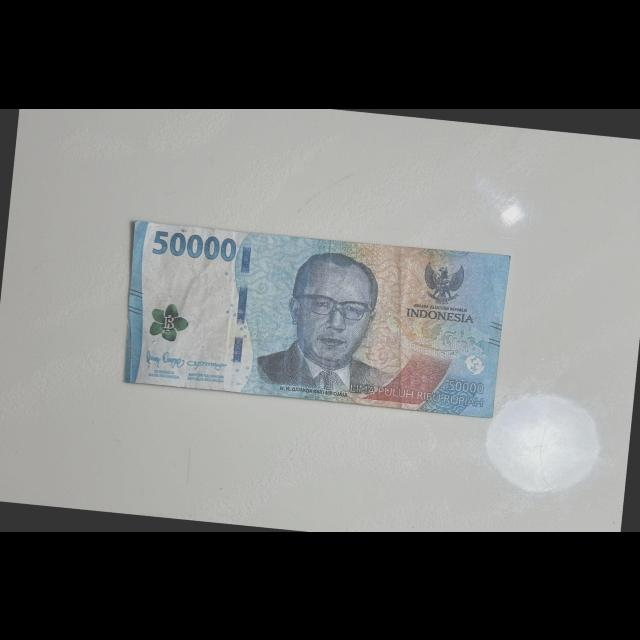Palsu-50k: (118, 216, 514, 421)
Tinta-Palsu-50k: (145, 297, 193, 344)
